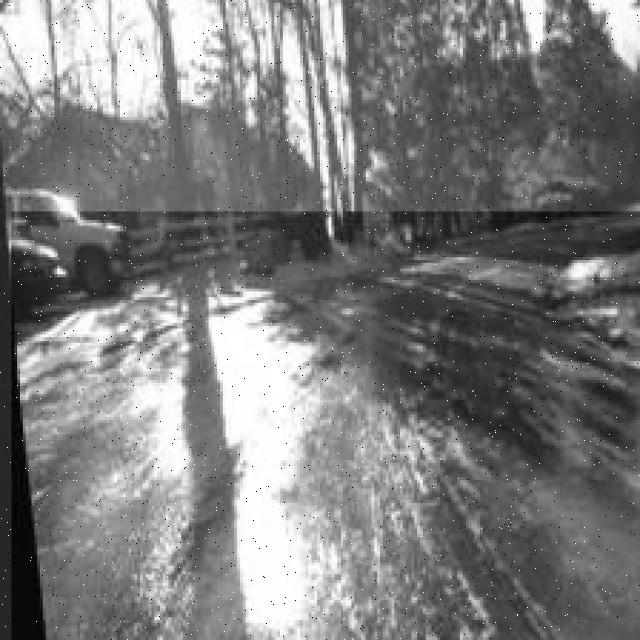ice-road: (12, 215, 640, 640)
